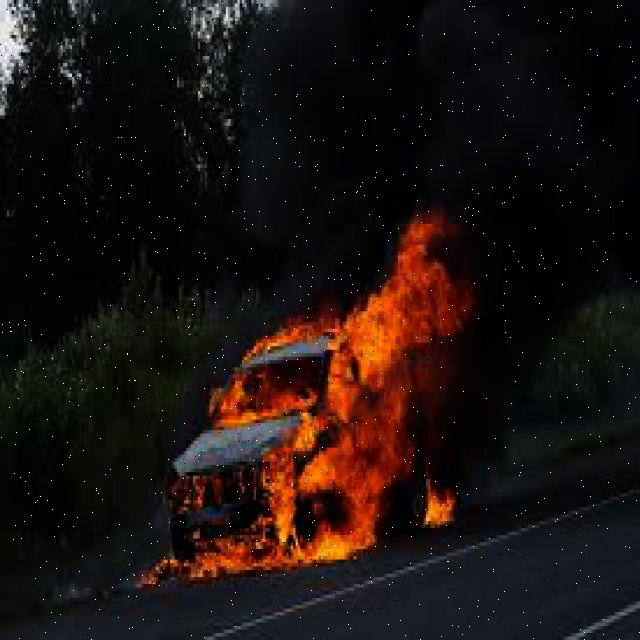fire: (162, 227, 484, 600)
smoke: (248, 10, 640, 228)
